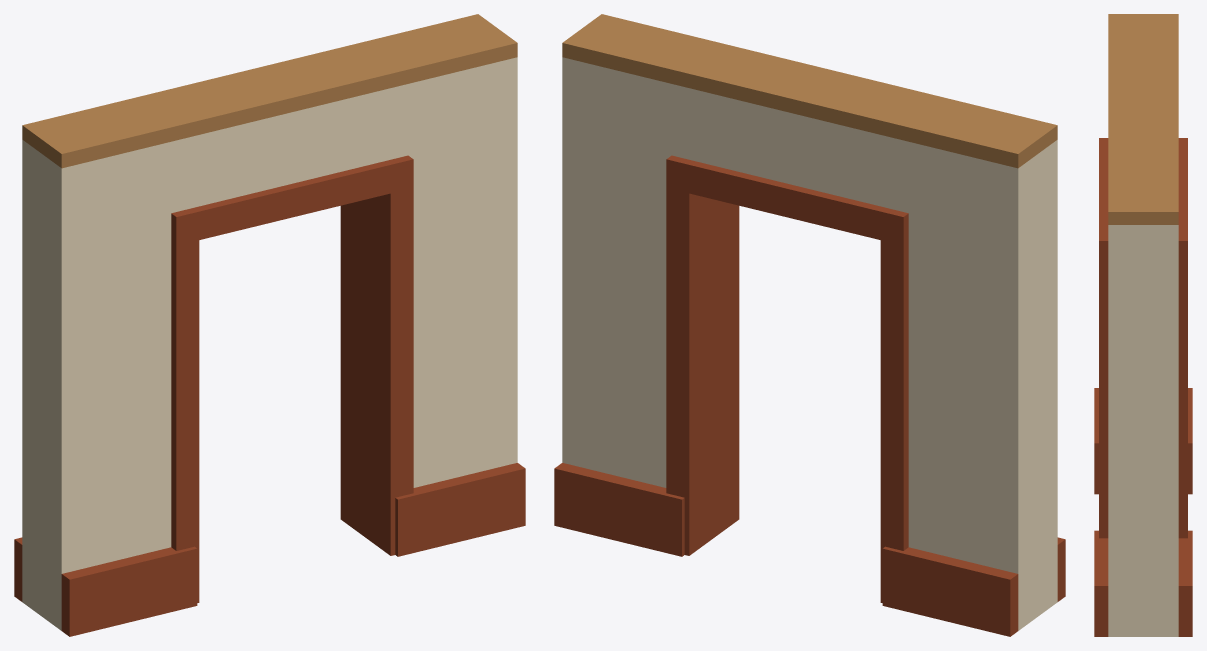
File: wall-door.glb
3 renders of one model, left to right at view 1: azimuth 30°, elevation 25°; view 2: azimuth 150°, elevation 25°; view 3: azimuth 270°, elevation 25°, orthographic. The views are drawn at different scales.
Visible parts, largest first — view 1: wall-door; view 2: wall-door; view 3: wall-door.
Part boxes in pixels (x1,y1,x2,y2): wall-door: (14, 14, 525, 636); wall-door: (554, 14, 1065, 636); wall-door: (1094, 14, 1192, 636).
Bounding box in the file's own units: 1 × 1 × 0.21.
Materials: 1 (1 with a texture image).
